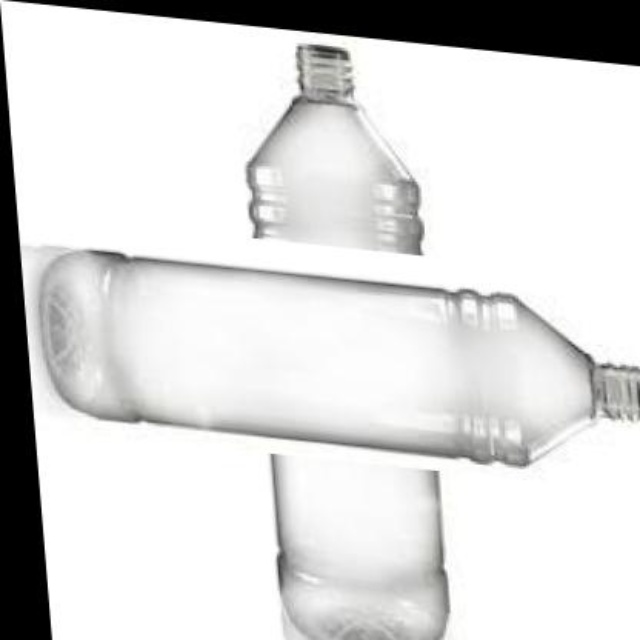trash: (23, 248, 592, 463), (248, 45, 422, 252), (272, 454, 446, 638)
